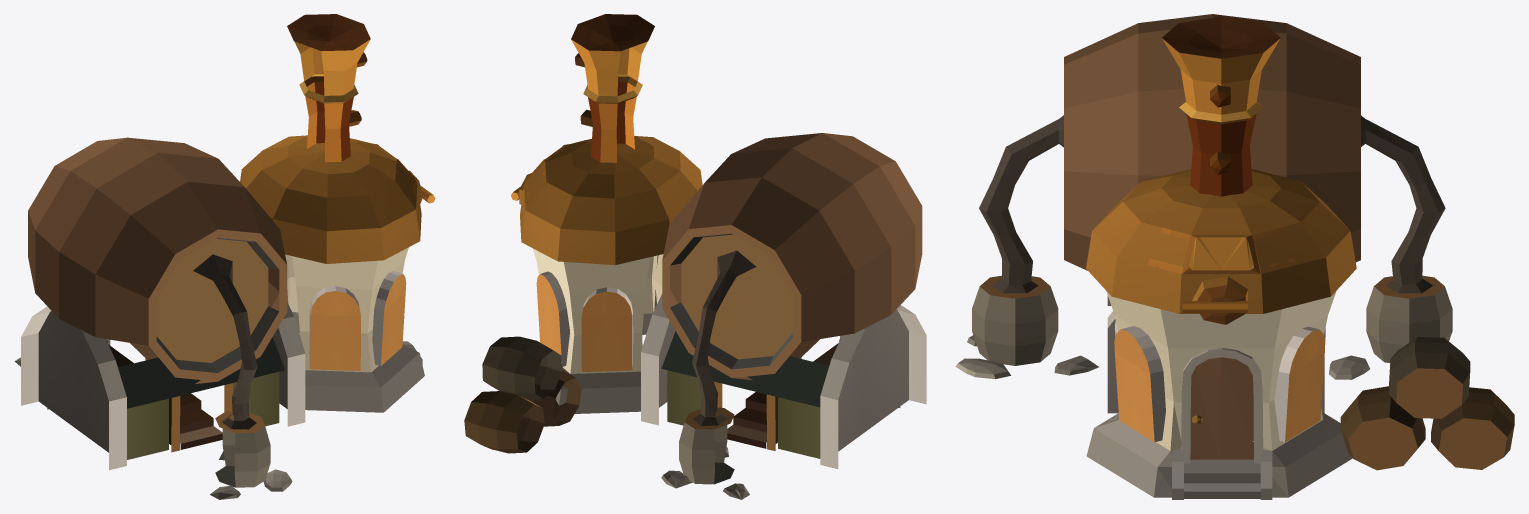
Rendered from building16.fbx.
The picture shows the model from 3 angles, left to right: view 1: azimuth 30°, elevation 25°; view 2: azimuth 150°, elevation 25°; view 3: azimuth 270°, elevation 25°; orthographic projection. The views are drawn at different scales.
Parts seen in each view (by area): view 1: building16; view 2: building16; view 3: building16.
Boxes of the visible parts, <box> form: building16: <box>14,14,435,499</box>; building16: <box>464,14,926,499</box>; building16: <box>955,14,1514,499</box>.
Bounding box in the file's own units: 3.07 × 2.77 × 3.32.
1 material, 1 textured.
